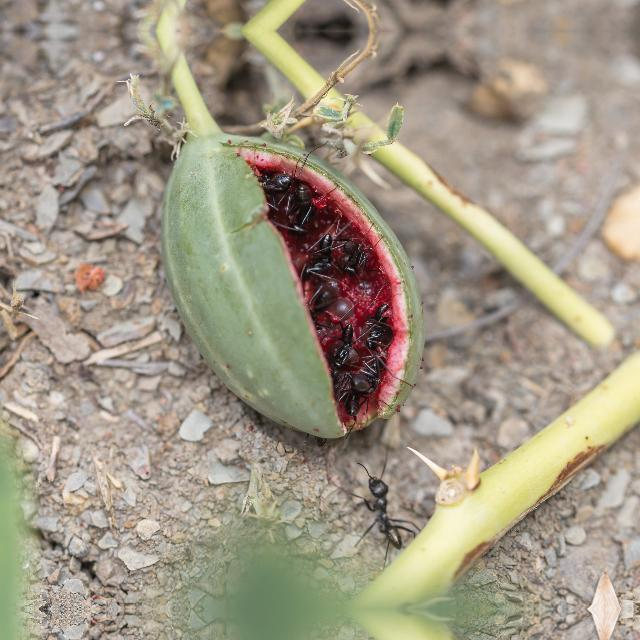Cataglyphis: (340, 461, 418, 564), (296, 280, 336, 332), (342, 221, 376, 277), (362, 300, 396, 350), (244, 164, 292, 196), (308, 229, 337, 281), (332, 321, 358, 375), (292, 180, 318, 222)
